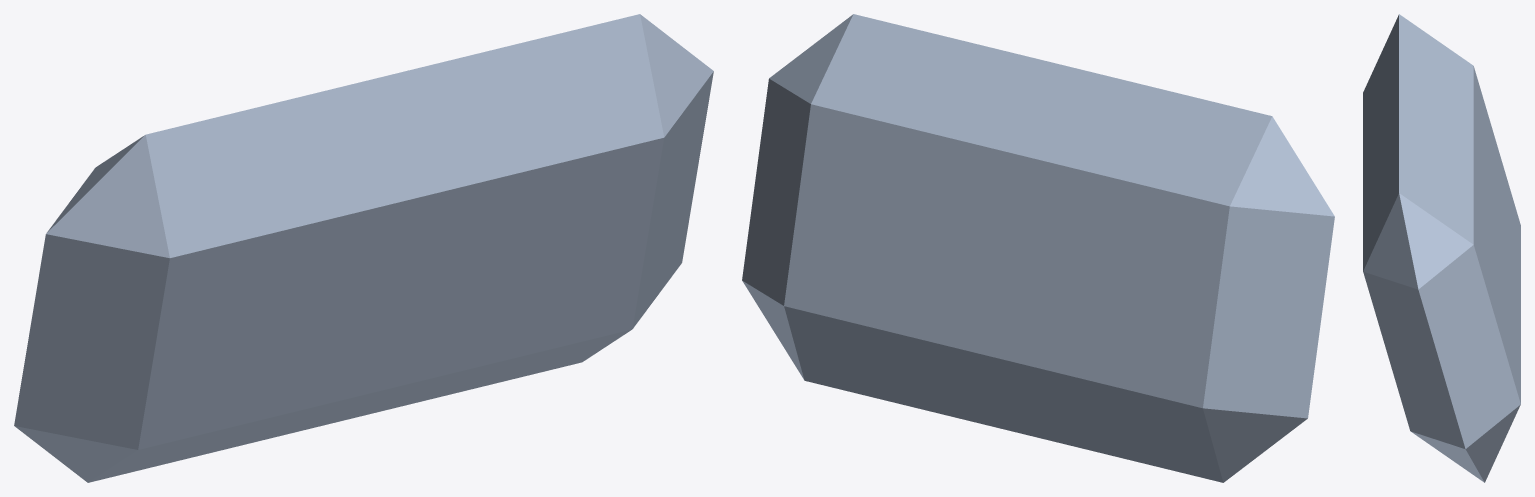
Rendered from furn_pillowBlue.glb.
The picture shows the model from 3 angles, left to right: view 1: azimuth 30°, elevation 25°; view 2: azimuth 150°, elevation 25°; view 3: azimuth 270°, elevation 25°; orthographic projection. The views are drawn at different scales.
Size of the model in its own units: 0.46 by 0.257 by 0.1268.
